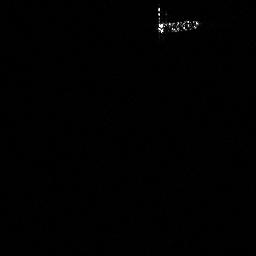ship: (154, 5, 201, 37)
